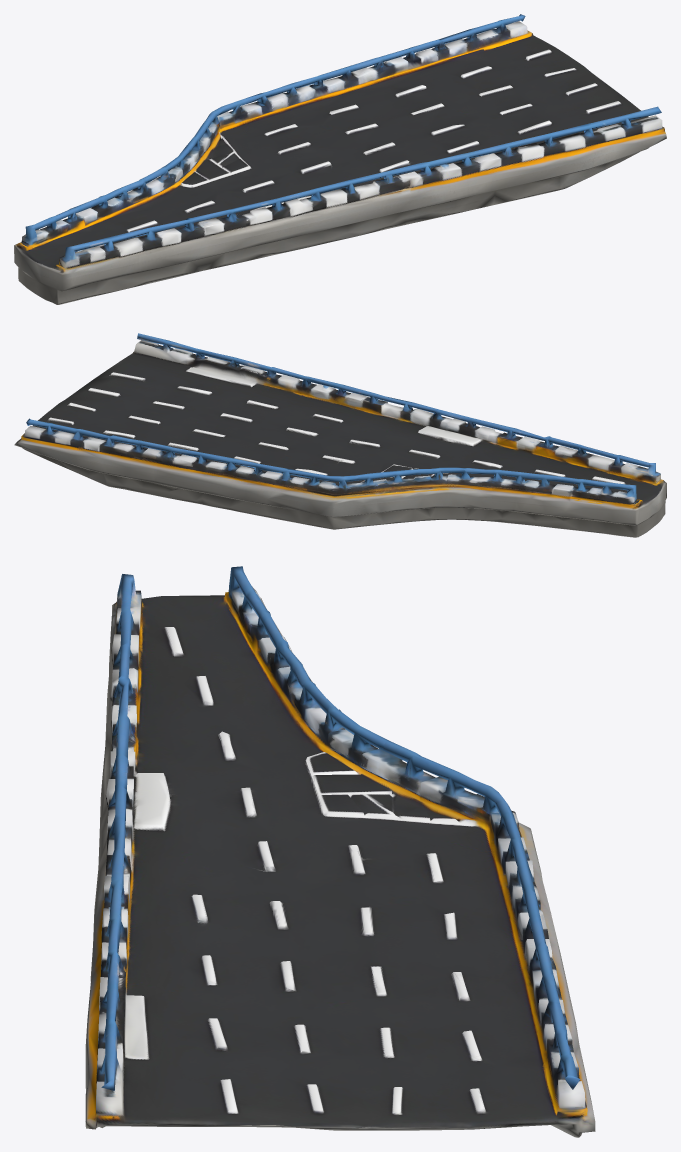
Rendered from lane2expansion4.glb.
The picture shows the model from 3 angles, top to bottom: view 1: azimuth 30°, elevation 25°; view 2: azimuth 150°, elevation 25°; view 3: azimuth 270°, elevation 25°; orthographic projection. The views are drawn at different scales.
Visible parts, largest first — view 1: tripo_node_0c219c76-0800-478d-ac06-d2a31065d9ac; view 2: tripo_node_0c219c76-0800-478d-ac06-d2a31065d9ac; view 3: tripo_node_0c219c76-0800-478d-ac06-d2a31065d9ac.
Part boxes in pixels (bbox=[...]): tripo_node_0c219c76-0800-478d-ac06-d2a31065d9ac: bbox=[14, 14, 666, 304]; tripo_node_0c219c76-0800-478d-ac06-d2a31065d9ac: bbox=[14, 333, 666, 537]; tripo_node_0c219c76-0800-478d-ac06-d2a31065d9ac: bbox=[85, 566, 595, 1137].
Bounding box in the file's own units: 1 × 0.0881 × 0.4051.
Materials: 1 (1 with a texture image).
